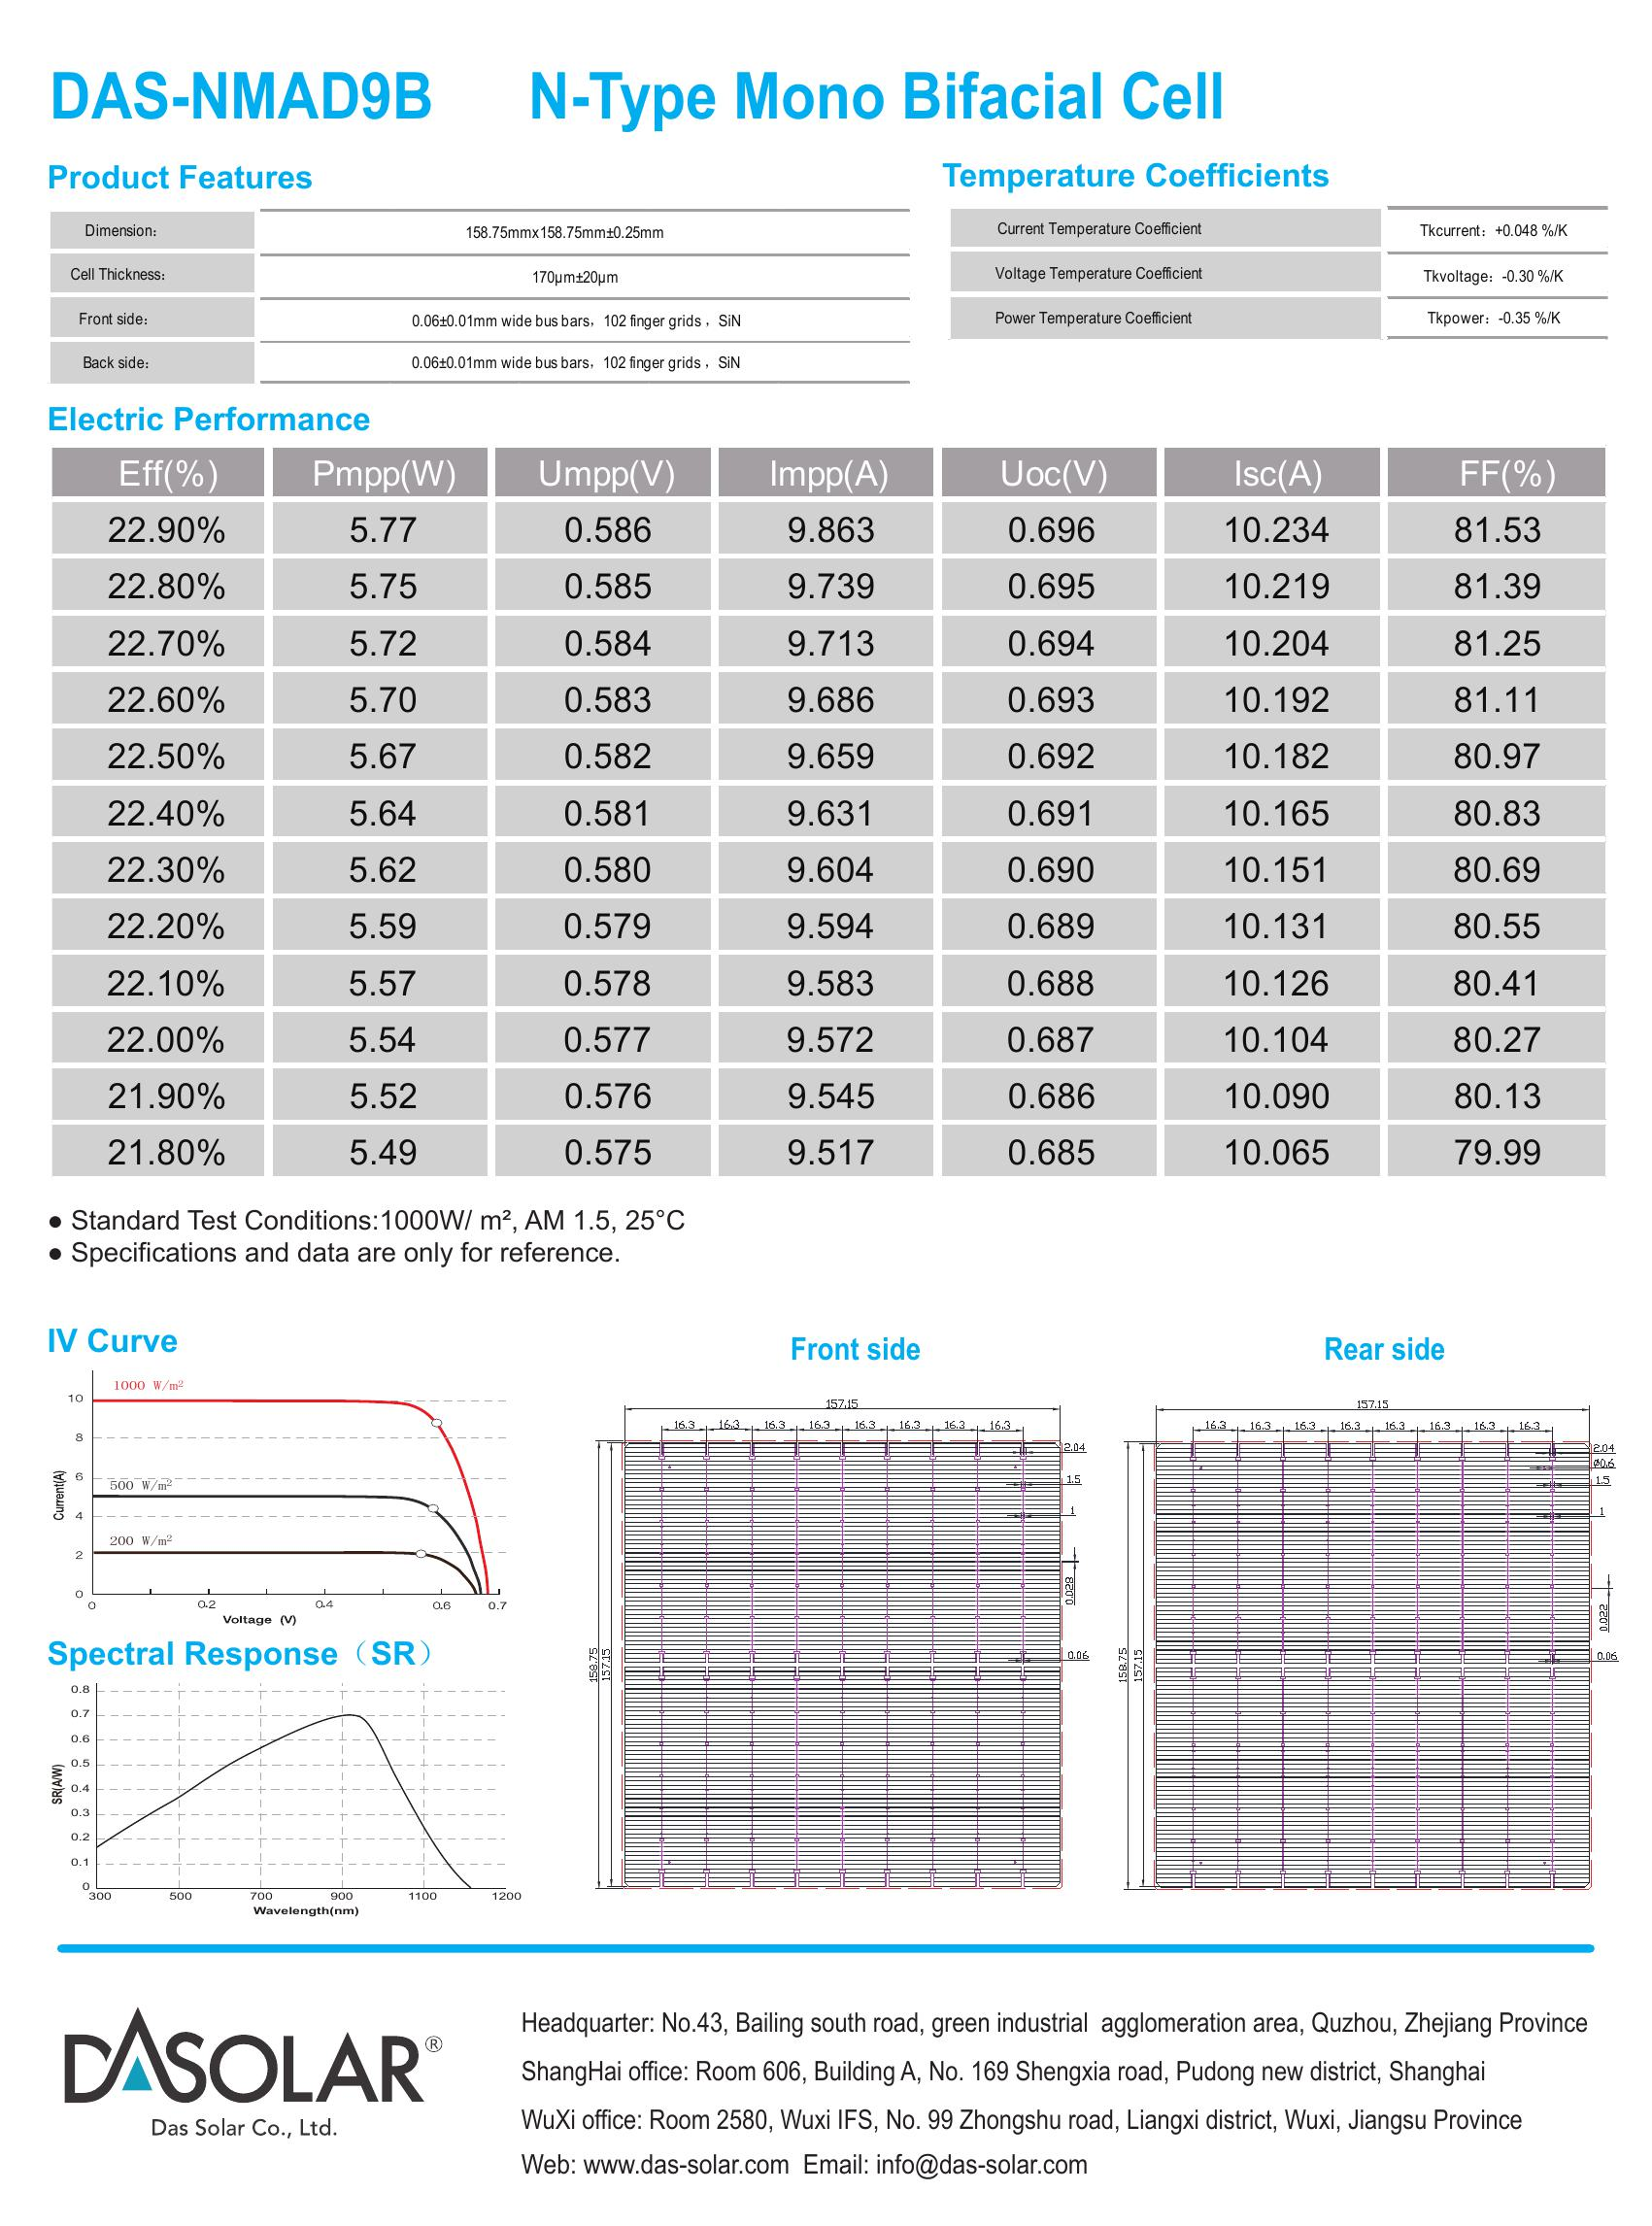table: (38, 441, 1621, 1195), (38, 203, 925, 394), (939, 200, 1626, 344)
